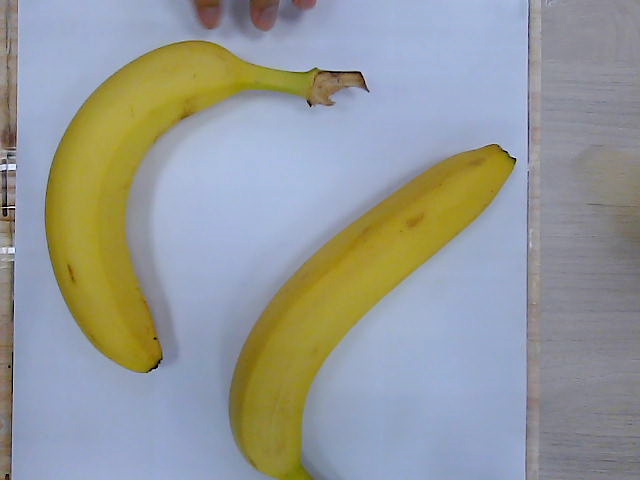fresh_banana: (43, 39, 360, 373), (232, 144, 517, 480)
